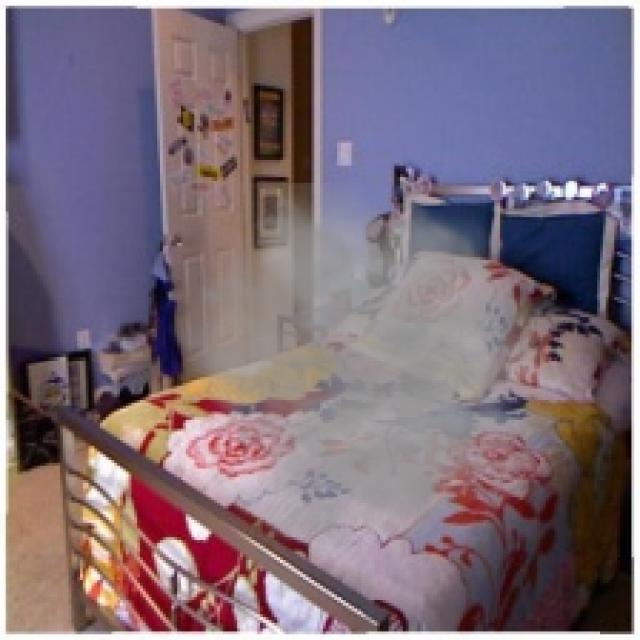Smoke: (168, 183, 572, 580)
